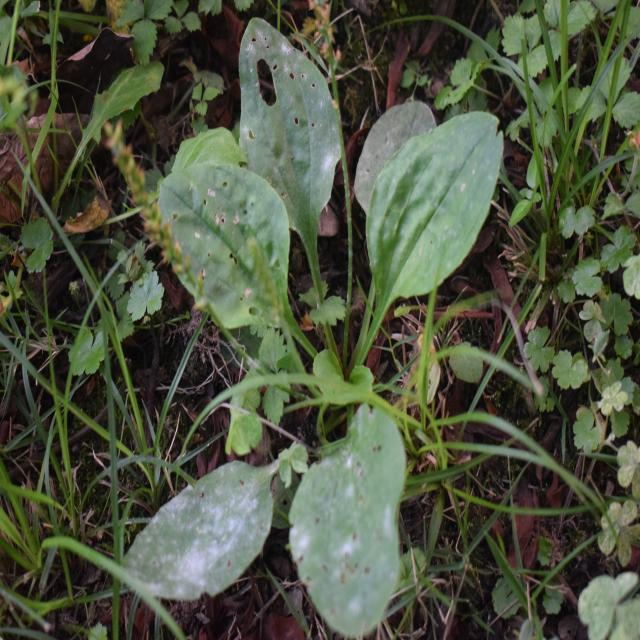plantain: (182, 53, 481, 597)
